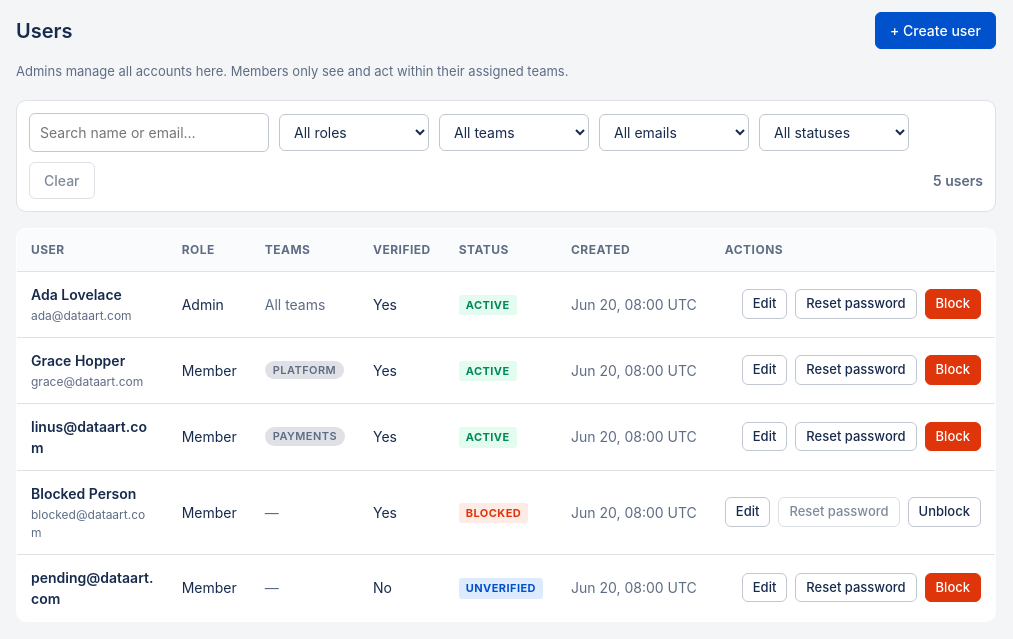
Test case: UsersPage › filtering › filters by team membership
Expected: the text "Ada Lovelace" is shown, [31,286,122,302]
Select "Payments" in the dropdown named "Filter by team" at (514, 132), box [439,114,589,150]
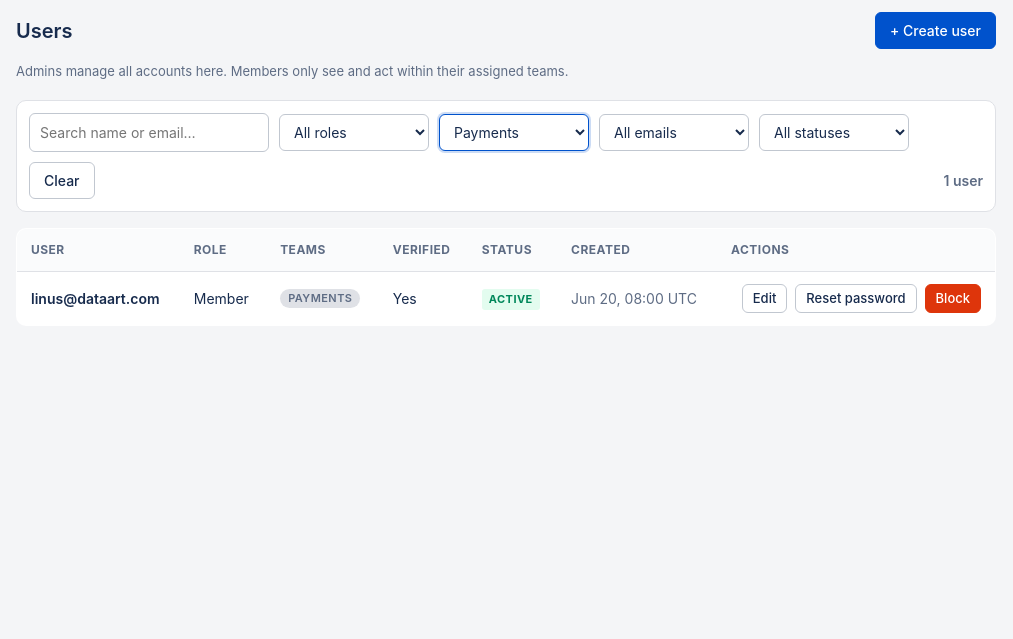
Expected: the text "linus@dataart.com" is shown, [31,288,166,309]
Now the text "Grace Hopper" is gone
